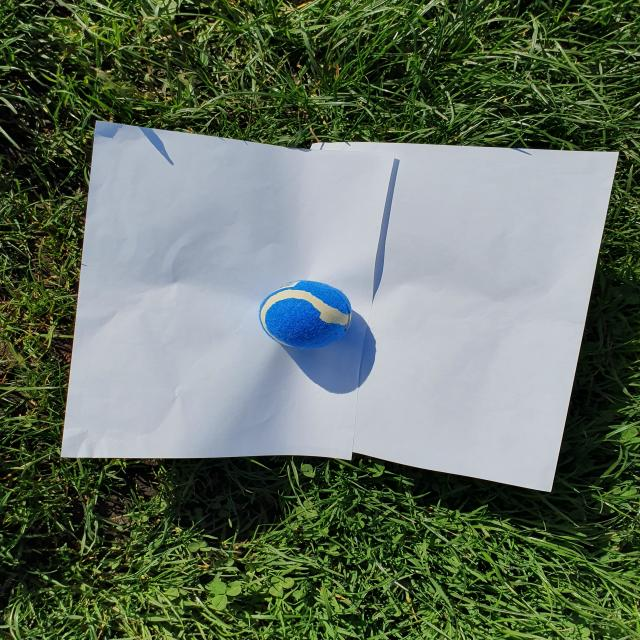blue: (259, 280, 352, 349)
